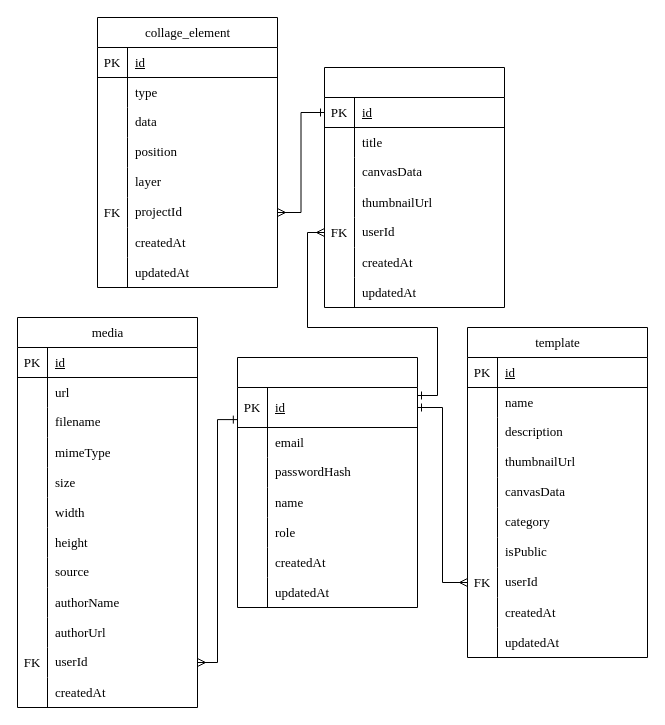
Some shapes in this 665 by 725 pixel diagram are drawn without their labels. The shapes that lost their labels are listed below. From the top down, each one's box as (x1, y1, x2, y2) in pixels, then its label:
(324, 66, 504, 308): projects
(236, 356, 418, 608): users
